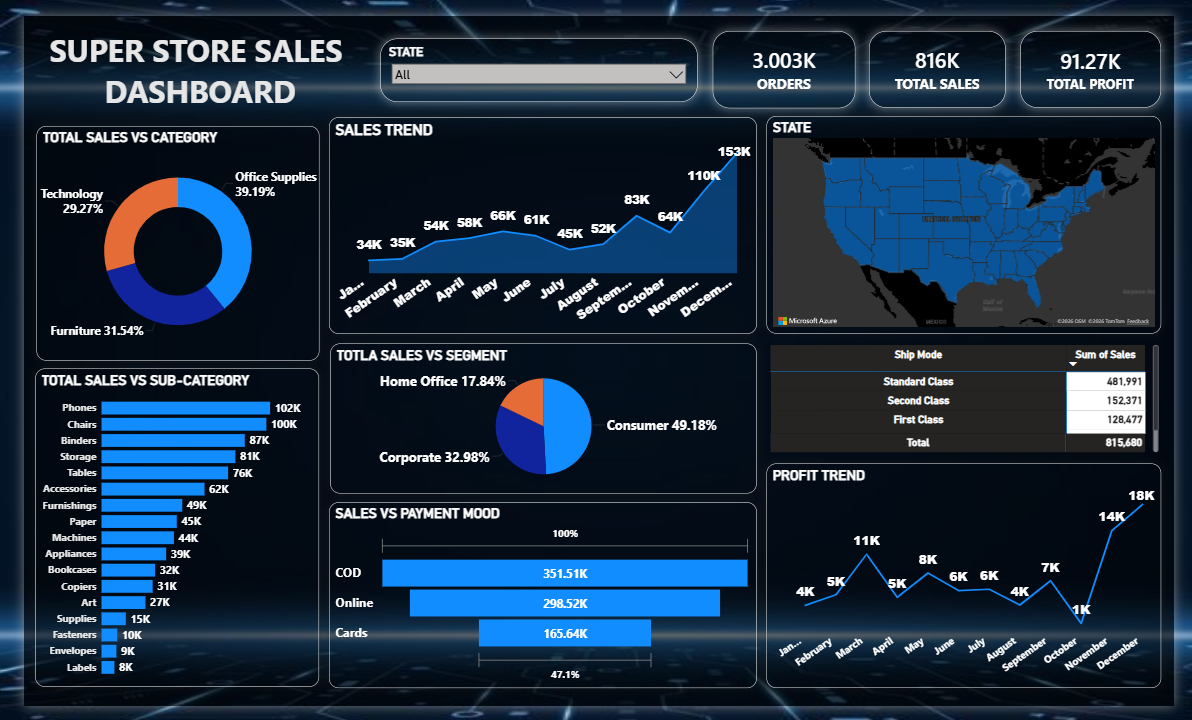

The page's visual inventory and layout, read from the dashboard file:
{"tool":"powerbi","page":{"name":"Page 1","canvas":[2000,1200],"ordinal":0},"visuals":[{"type":"donutChart","title":"TOTAL SALES VS CATEGORY","fields":{"Y":["Sum(SuperStore_Sales_Dataset.Sales)"],"Category":["SuperStore_Sales_Dataset.Category"]},"box":[20.8,191.7,491.7,408.3],"z":0},{"type":"areaChart","title":"SALES TREND","fields":{"Y":["Sum(SuperStore_Sales_Dataset.Sales)"],"Category":["SuperStore_Sales_Dataset.Order Date.Variation.Date Hierarchy.Month"]},"box":[531.2,175,743.8,377.1],"z":1000},{"type":"clusteredBarChart","title":"TOTAL SALES VS SUB-CATEGORY","fields":{"Category":["SuperStore_Sales_Dataset.Sub-Category"],"Y":["Sum(SuperStore_Sales_Dataset.Sales)"]},"box":[20,613.3,493.3,553.3],"z":2000},{"type":"lineChart","title":"PROFIT TREND","fields":{"Category":["SuperStore_Sales_Dataset.Order Date.Variation.Date Hierarchy.Month"],"Y":["Sum(SuperStore_Sales_Dataset.Profit)"]},"box":[1292,778,686,390],"z":3000},{"type":"azureMap","title":"STATE","fields":{"Category":["SuperStore_Sales_Dataset.State"]},"box":[1292,174,686,378],"z":4000},{"type":"pieChart","title":"TOTLA SALES VS SEGMENT","fields":{"Category":["SuperStore_Sales_Dataset.Segment"],"Y":["Sum(SuperStore_Sales_Dataset.Sales)"]},"box":[533.3,568.8,741.7,260.4],"z":5000},{"type":"pivotTable","fields":{"Rows":["SuperStore_Sales_Dataset.Ship Mode"],"Values":["Sum(SuperStore_Sales_Dataset.Sales)"]},"box":[1294,568,684,196],"z":6000},{"type":"funnel","title":"SALES VS PAYMENT MOOD","fields":{"Category":["SuperStore_Sales_Dataset.Payment Mode"],"Y":["Sum(SuperStore_Sales_Dataset.Sales)"]},"box":[531.2,845.8,743.8,322.9],"z":7000},{"type":"cardVisual","fields":{"Data":["Sum(SuperStore_Sales_Dataset.Profit)"]},"box":[1733.3,26.7,244.4,133.3],"z":8000},{"type":"cardVisual","fields":{"Data":["Sum(SuperStore_Sales_Dataset.Sales)"]},"box":[1468.9,26.7,237.8,133.3],"z":9000},{"type":"cardVisual","fields":{"Data":["CountNonNull(SuperStore_Sales_Dataset.Quantity)"]},"box":[1198,26,248,134],"z":10000},{"type":"textbox","box":[40,18,534,156],"z":11000},{"type":"slicer","title":"STATE","fields":{"Values":["SuperStore_Sales_Dataset.State"]},"box":[620,40,552,110],"z":12000}]}

Visuals, with their boxes in screenshot pixels (x1, y1, x2, y2), scaled from the page's 2000x1200 canvas onto the 1192x720 screenshot:
"TOTAL SALES VS CATEGORY" donutChart: x1=12 y1=115 x2=305 y2=360
"SALES TREND" areaChart: x1=317 y1=105 x2=760 y2=331
"TOTAL SALES VS SUB-CATEGORY" clusteredBarChart: x1=12 y1=368 x2=306 y2=700
"PROFIT TREND" lineChart: x1=770 y1=467 x2=1179 y2=701
"STATE" azureMap: x1=770 y1=104 x2=1179 y2=331
"TOTLA SALES VS SEGMENT" pieChart: x1=318 y1=341 x2=760 y2=498
pivotTable - SuperStore_Sales_Dataset.Ship Mode x Sum(SuperStore_Sales_Dataset.Sales): x1=771 y1=341 x2=1179 y2=458
"SALES VS PAYMENT MOOD" funnel: x1=317 y1=507 x2=760 y2=701
cardVisual - Sum(SuperStore_Sales_Dataset.Profit): x1=1033 y1=16 x2=1179 y2=96
cardVisual - Sum(SuperStore_Sales_Dataset.Sales): x1=875 y1=16 x2=1017 y2=96
cardVisual - CountNonNull(SuperStore_Sales_Dataset.Quantity): x1=714 y1=16 x2=862 y2=96
textbox: x1=24 y1=11 x2=342 y2=104
"STATE" slicer: x1=370 y1=24 x2=699 y2=90
